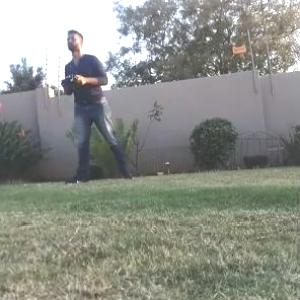follow: (54, 22, 132, 190)
